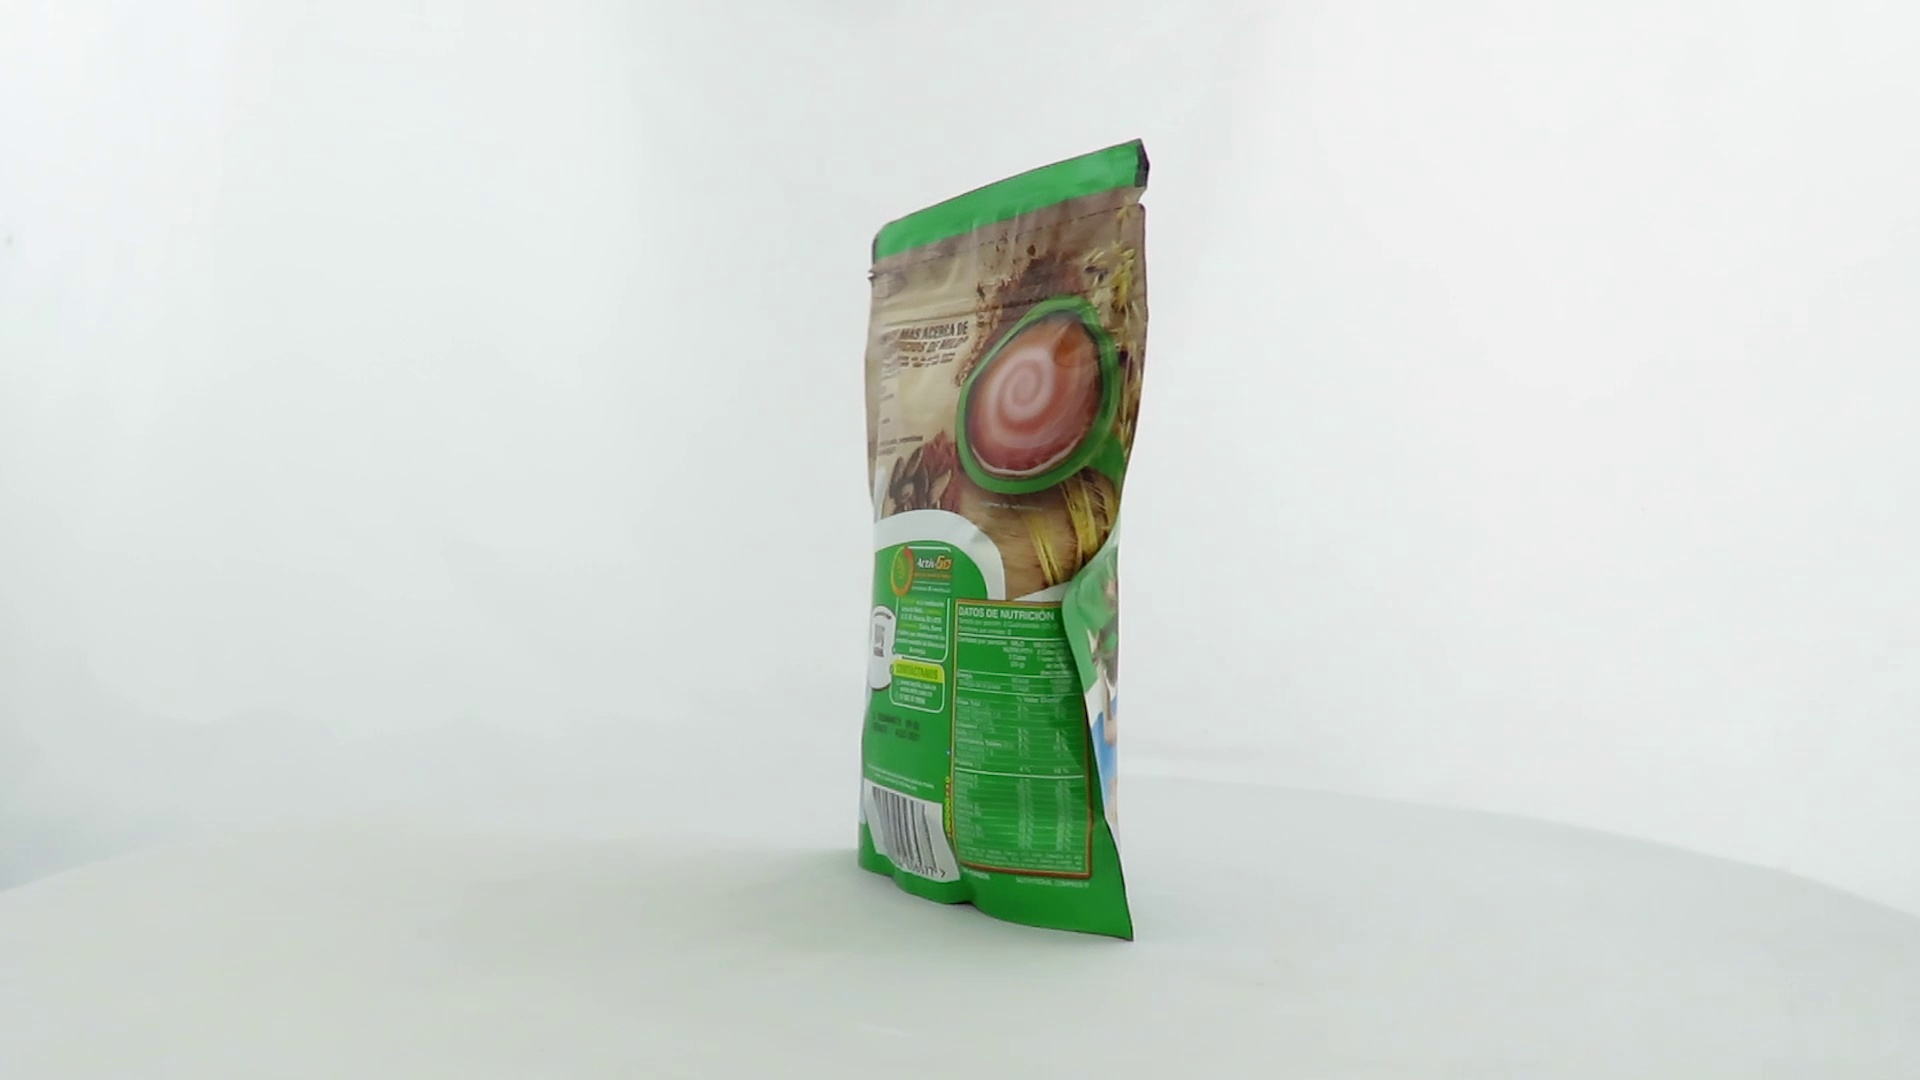COL0170205DYP20000: (852, 133, 1156, 948)
